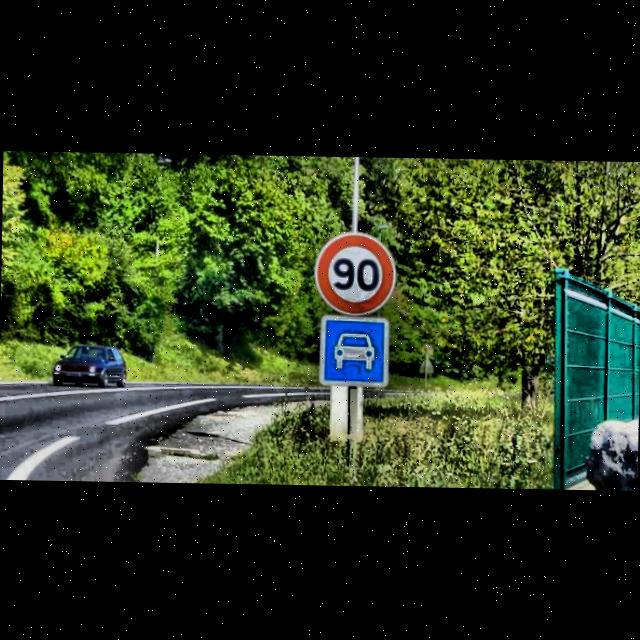speed_90: (314, 229, 398, 316)
